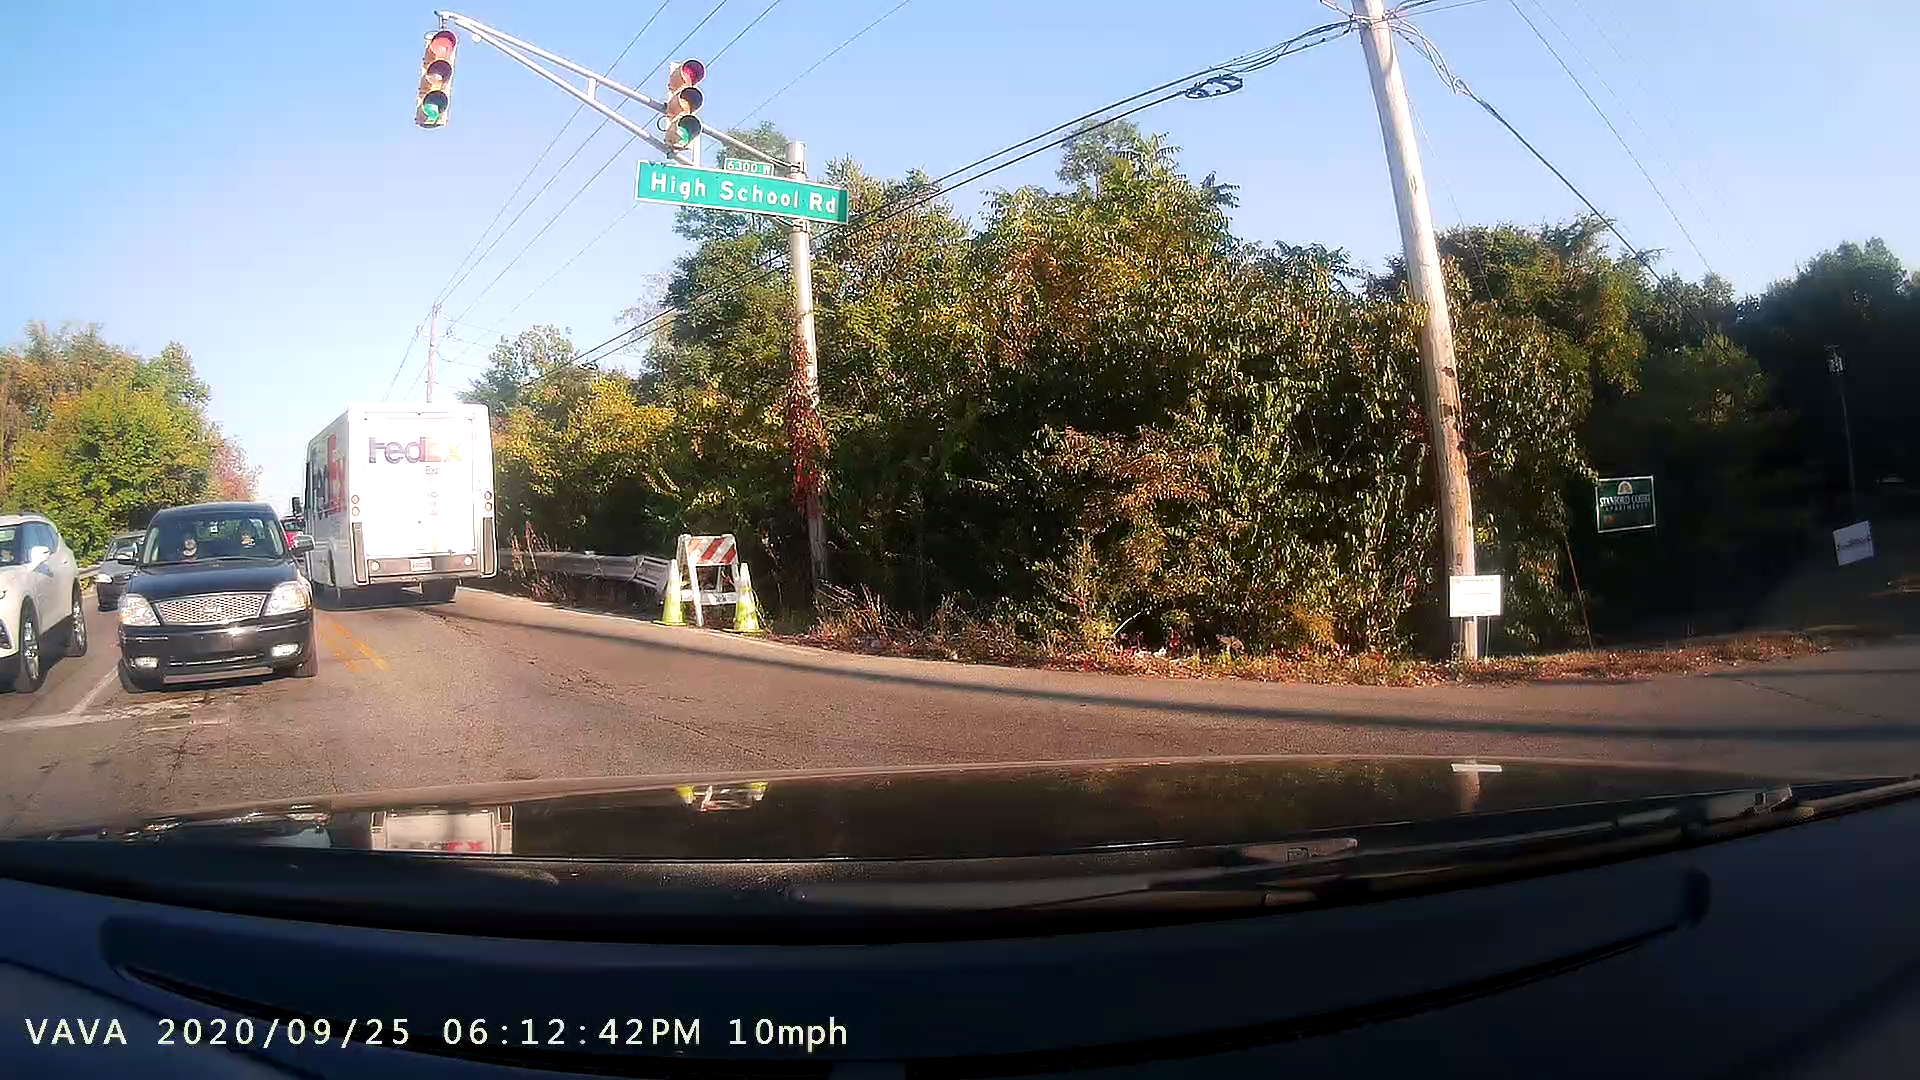const_cone: (640, 541, 692, 636), (721, 551, 771, 644)
